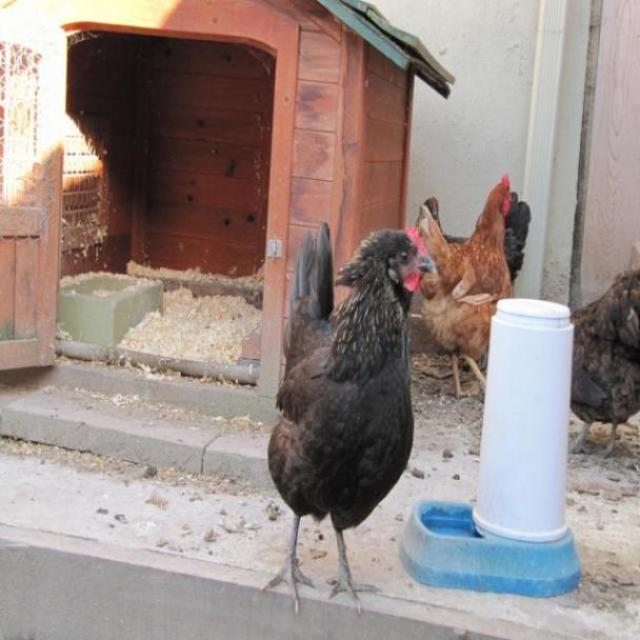Chicken: (272, 219, 432, 636), (415, 173, 511, 398), (568, 268, 640, 456)
